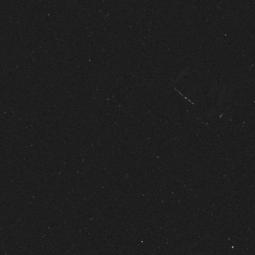soho: (161, 52, 250, 133)
